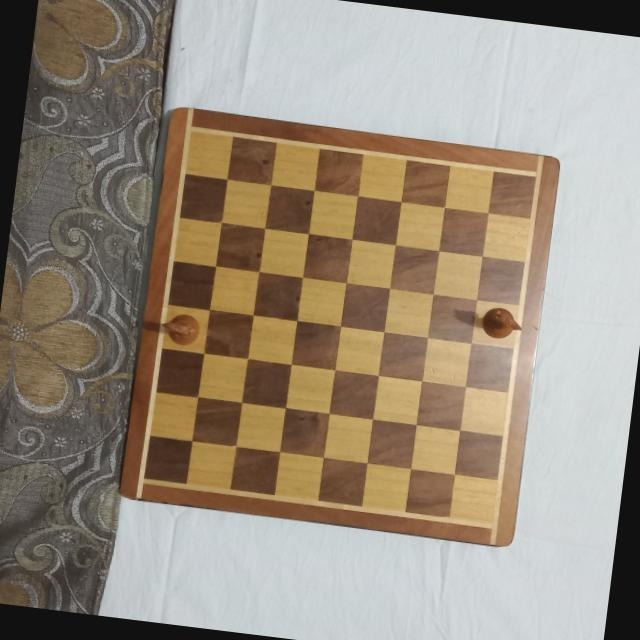white-knight: (478, 303, 526, 343), (160, 308, 204, 347)
